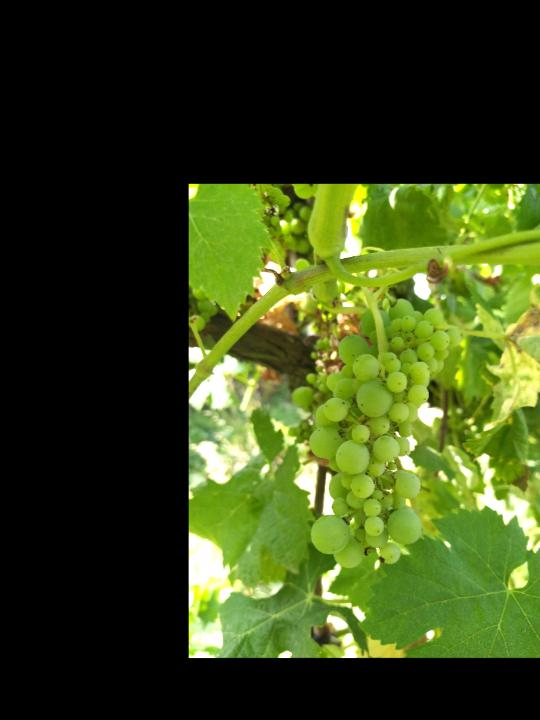grape: (305, 298, 464, 570)
